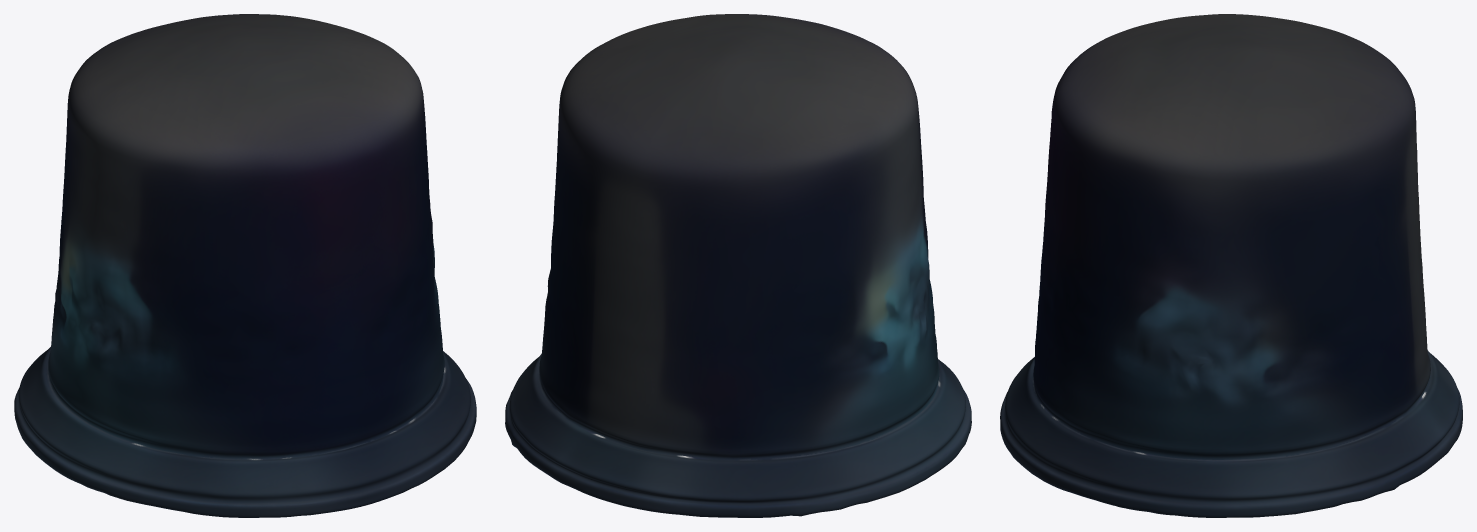
Rendered from base_basic_pbr.fbx.
3 views of the same model, side by side, from view 1: azimuth 30°, elevation 25°; view 2: azimuth 150°, elevation 25°; view 3: azimuth 270°, elevation 25° (orthographic).
Parts seen in each view (by area): view 1: model; view 2: model; view 3: model.
Part boxes in pixels (<box>): model: <box>14,14,476,517</box>; model: <box>505,14,971,517</box>; model: <box>1000,14,1462,517</box>.
Bounding box in the file's own units: 191 × 173 × 190.
1 material, 1 textured.
